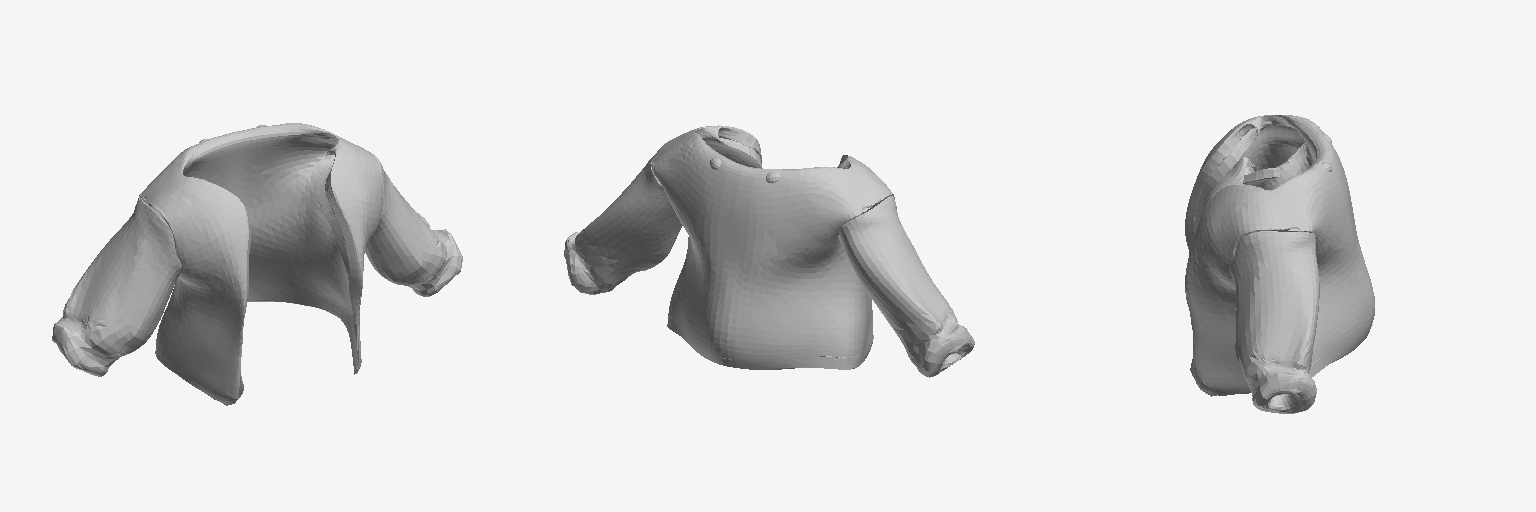
The picture shows the model from 3 angles: view 1: azimuth 30°, elevation 25°; view 2: azimuth 150°, elevation 25°; view 3: azimuth 270°, elevation 25°; orthographic projection.
Parts seen in each view (by area): view 1: Group2, Group5; view 2: Group2, Group5; view 3: Group2, Group5.
Part boxes in pixels (x1,y1,x2,y2): Group2: (139,123,382,405); Group5: (52,159,462,376); Group2: (651,125,894,369); Group5: (564,147,974,377); Group2: (1185,115,1374,396); Group5: (1230,126,1319,413).
Bounding box in the file's own units: 4.22 × 2.22 × 1.75.